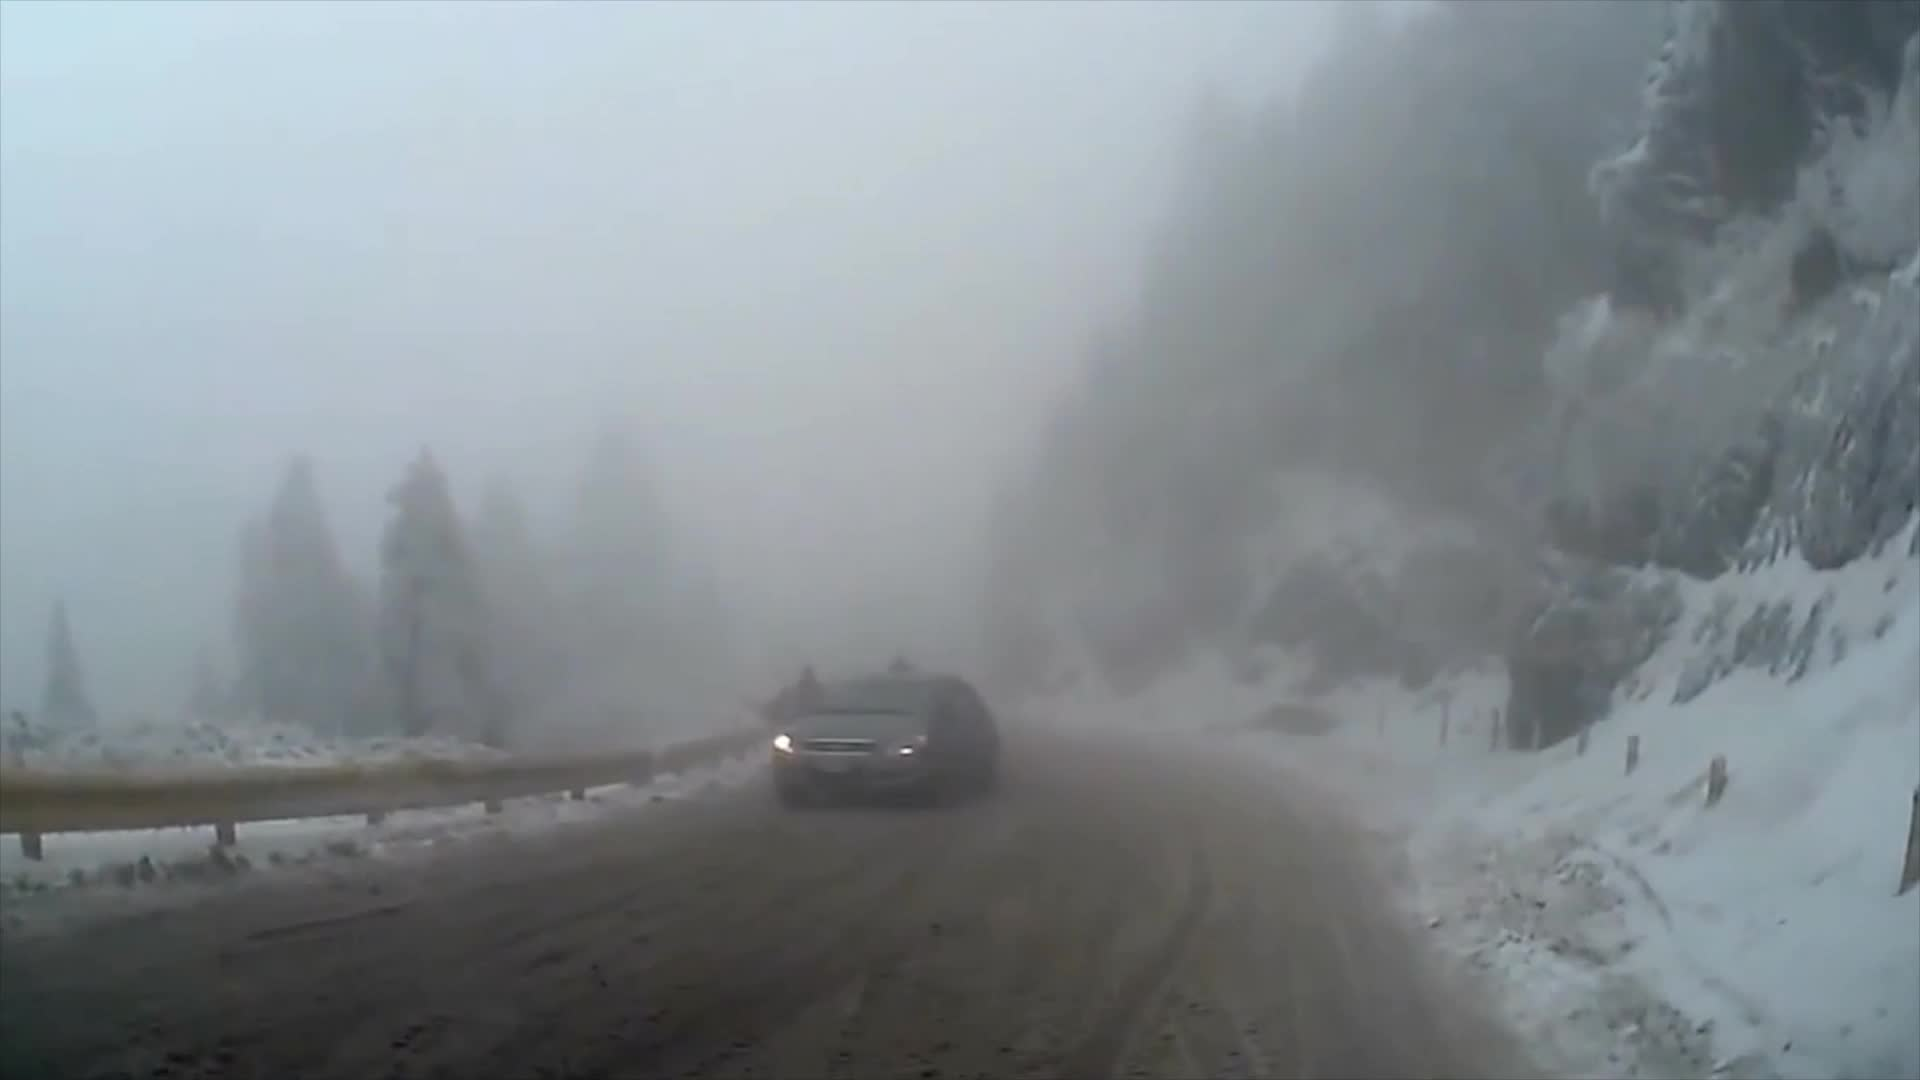vehicle: (771, 673, 1000, 812)
